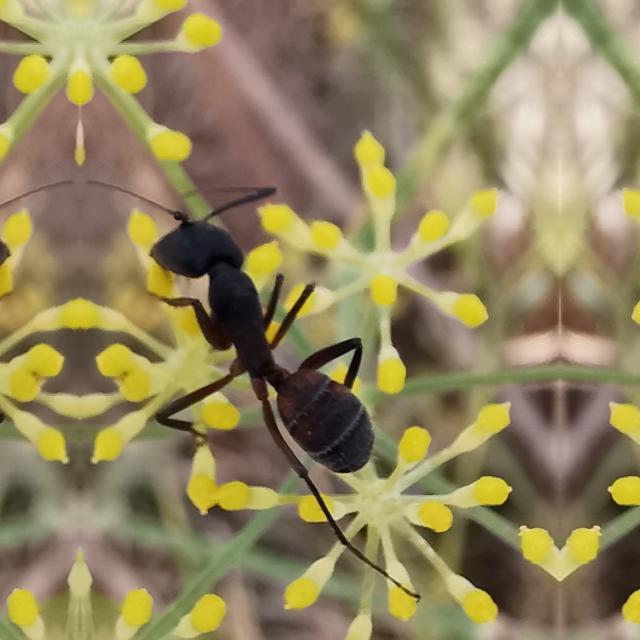Camponotus: (120, 165, 406, 528)
